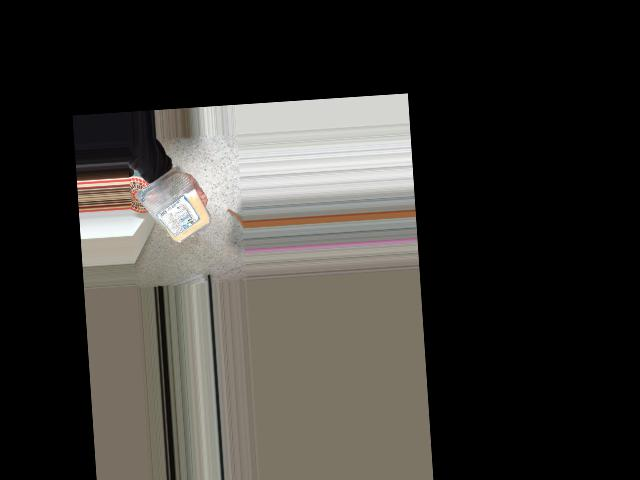cheese: (140, 172, 207, 247)
